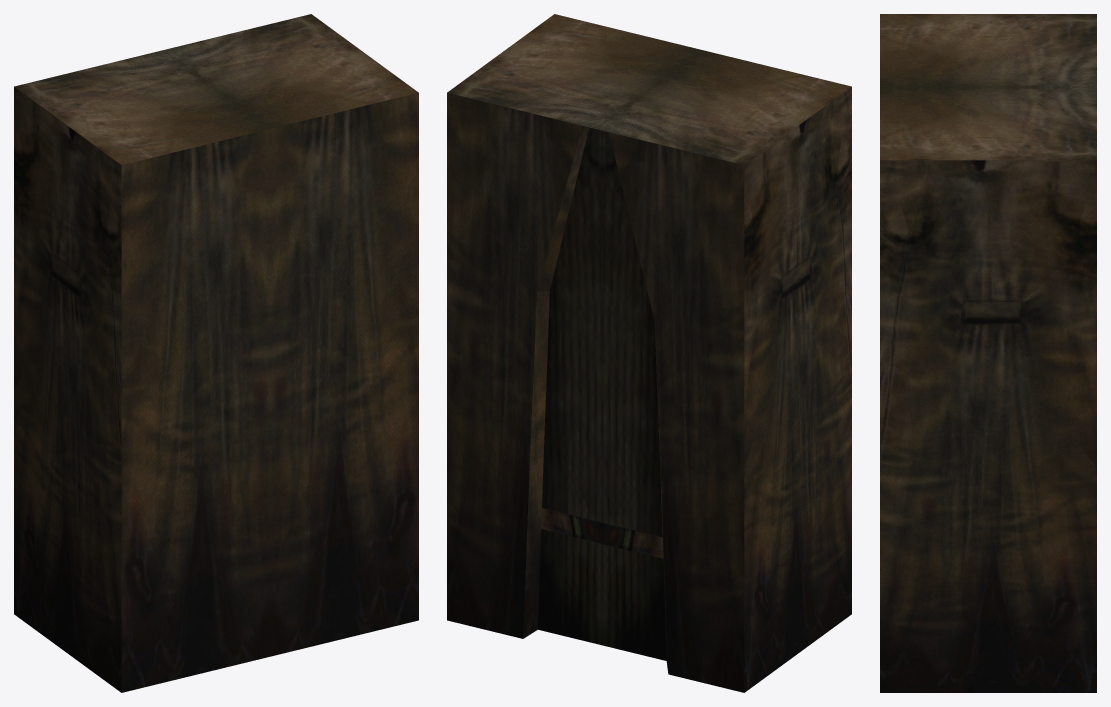
Rendered from arm_cape_chest.obj.
3 renders of one model, left to right at view 1: azimuth 30°, elevation 25°; view 2: azimuth 150°, elevation 25°; view 3: azimuth 270°, elevation 25°, orthographic.
Visible parts, largest first — view 1: arm_cape_chest_Cube.001; view 2: arm_cape_chest_Cube.001; view 3: arm_cape_chest_Cube.001.
Part boxes in pixels (bbox=[...]): arm_cape_chest_Cube.001: bbox=[14, 14, 418, 692]; arm_cape_chest_Cube.001: bbox=[447, 14, 851, 692]; arm_cape_chest_Cube.001: bbox=[880, 14, 1096, 692].
Bounding box in the file's own units: 1.71 × 2.9 × 1.07.
